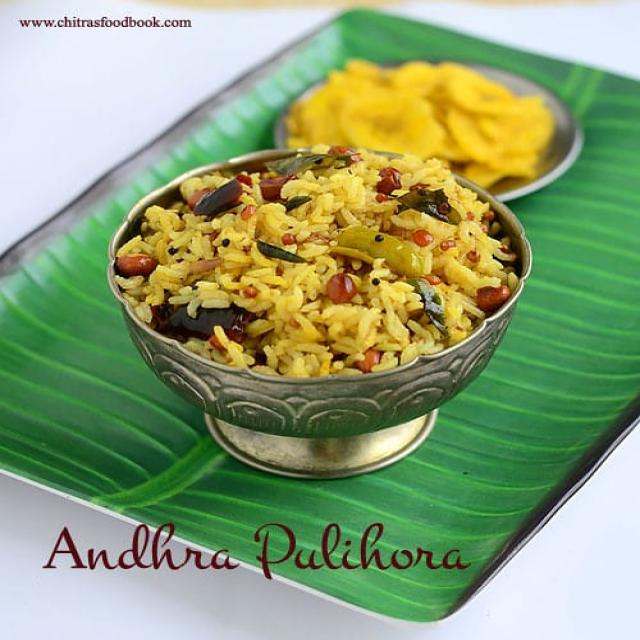puliyogare: (103, 138, 544, 396)
